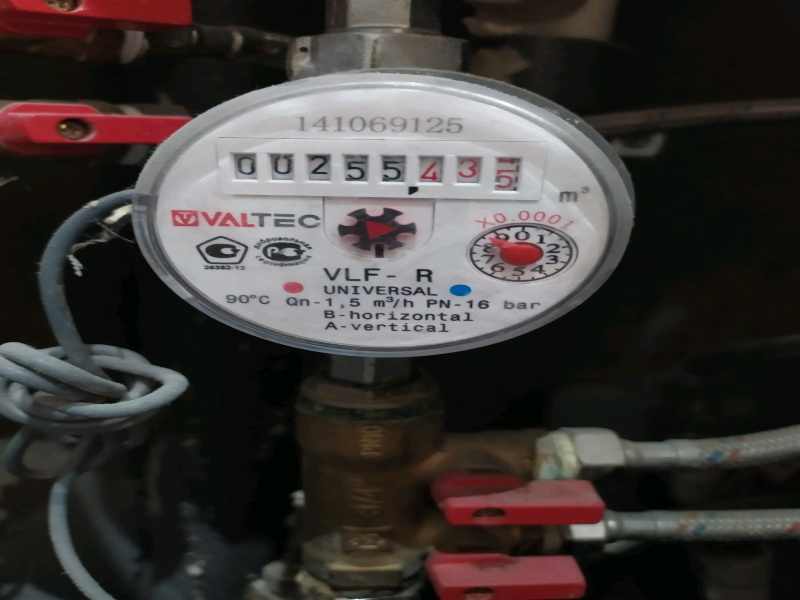meter: (220, 135, 540, 196)
